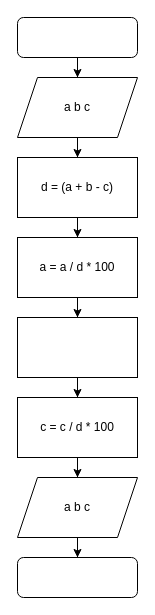
This 155x615 diagram has some shape labels left out. The centre of each missing label's shape, as x and y in pixels:
"b = b / d * 100" belongs at point 77,347.
"end sub" belongs at point 77,577.
"sub" belongs at point 77,37.
